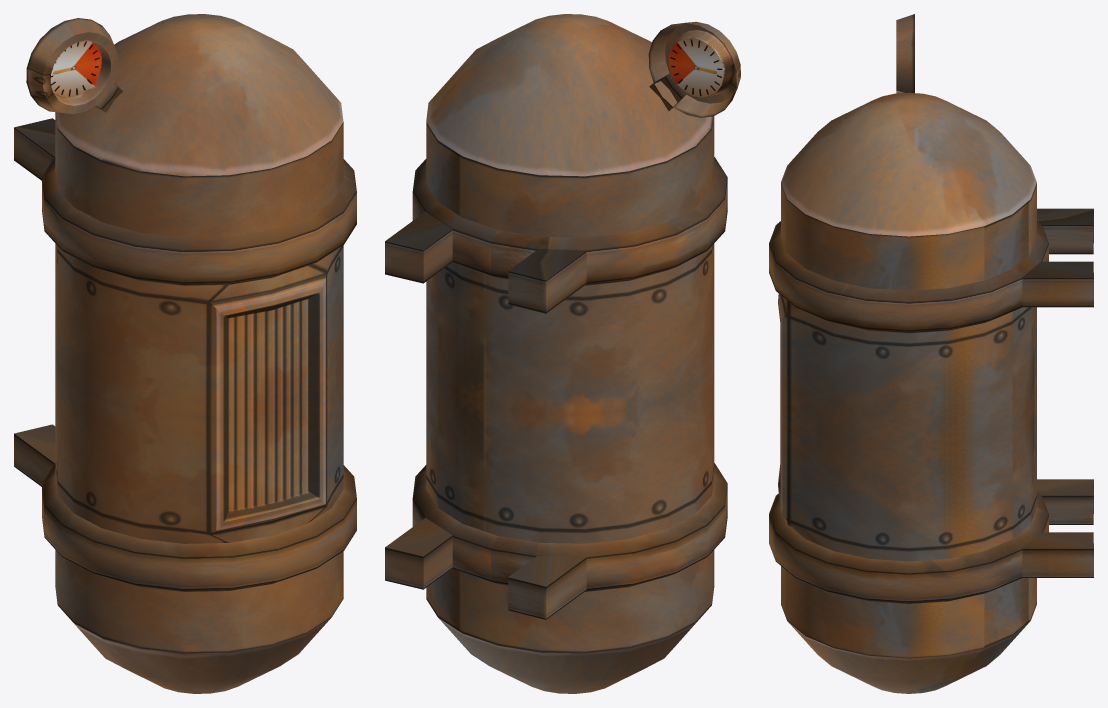
The model's file is prop_BG01.fbx.
The picture shows the model from 3 angles, left to right: view 1: azimuth 30°, elevation 25°; view 2: azimuth 150°, elevation 25°; view 3: azimuth 270°, elevation 25°; orthographic projection. The views are drawn at different scales.
Parts seen in each view (by area): view 1: polySurface25; view 2: polySurface25; view 3: polySurface25.
Part boxes in pixels (x1=…): polySurface25: x1=14, y1=14, x2=356, y2=693; polySurface25: x1=385, y1=14, x2=740, y2=693; polySurface25: x1=769, y1=14, x2=1093, y2=693.
Size of the model in its own units: 4.24 by 9.14 by 4.4.
